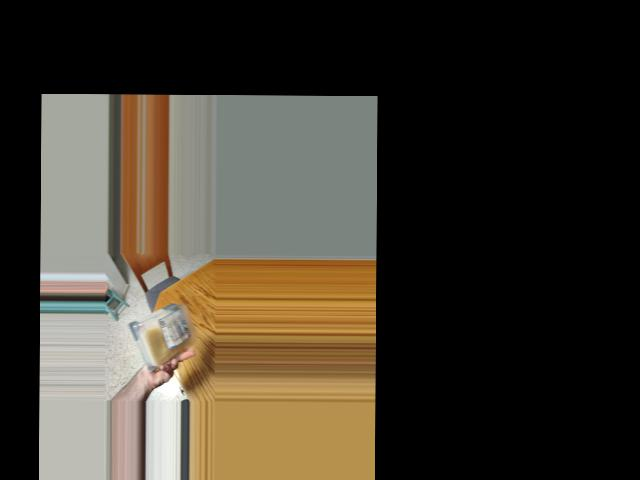cheese: (129, 303, 192, 355)
